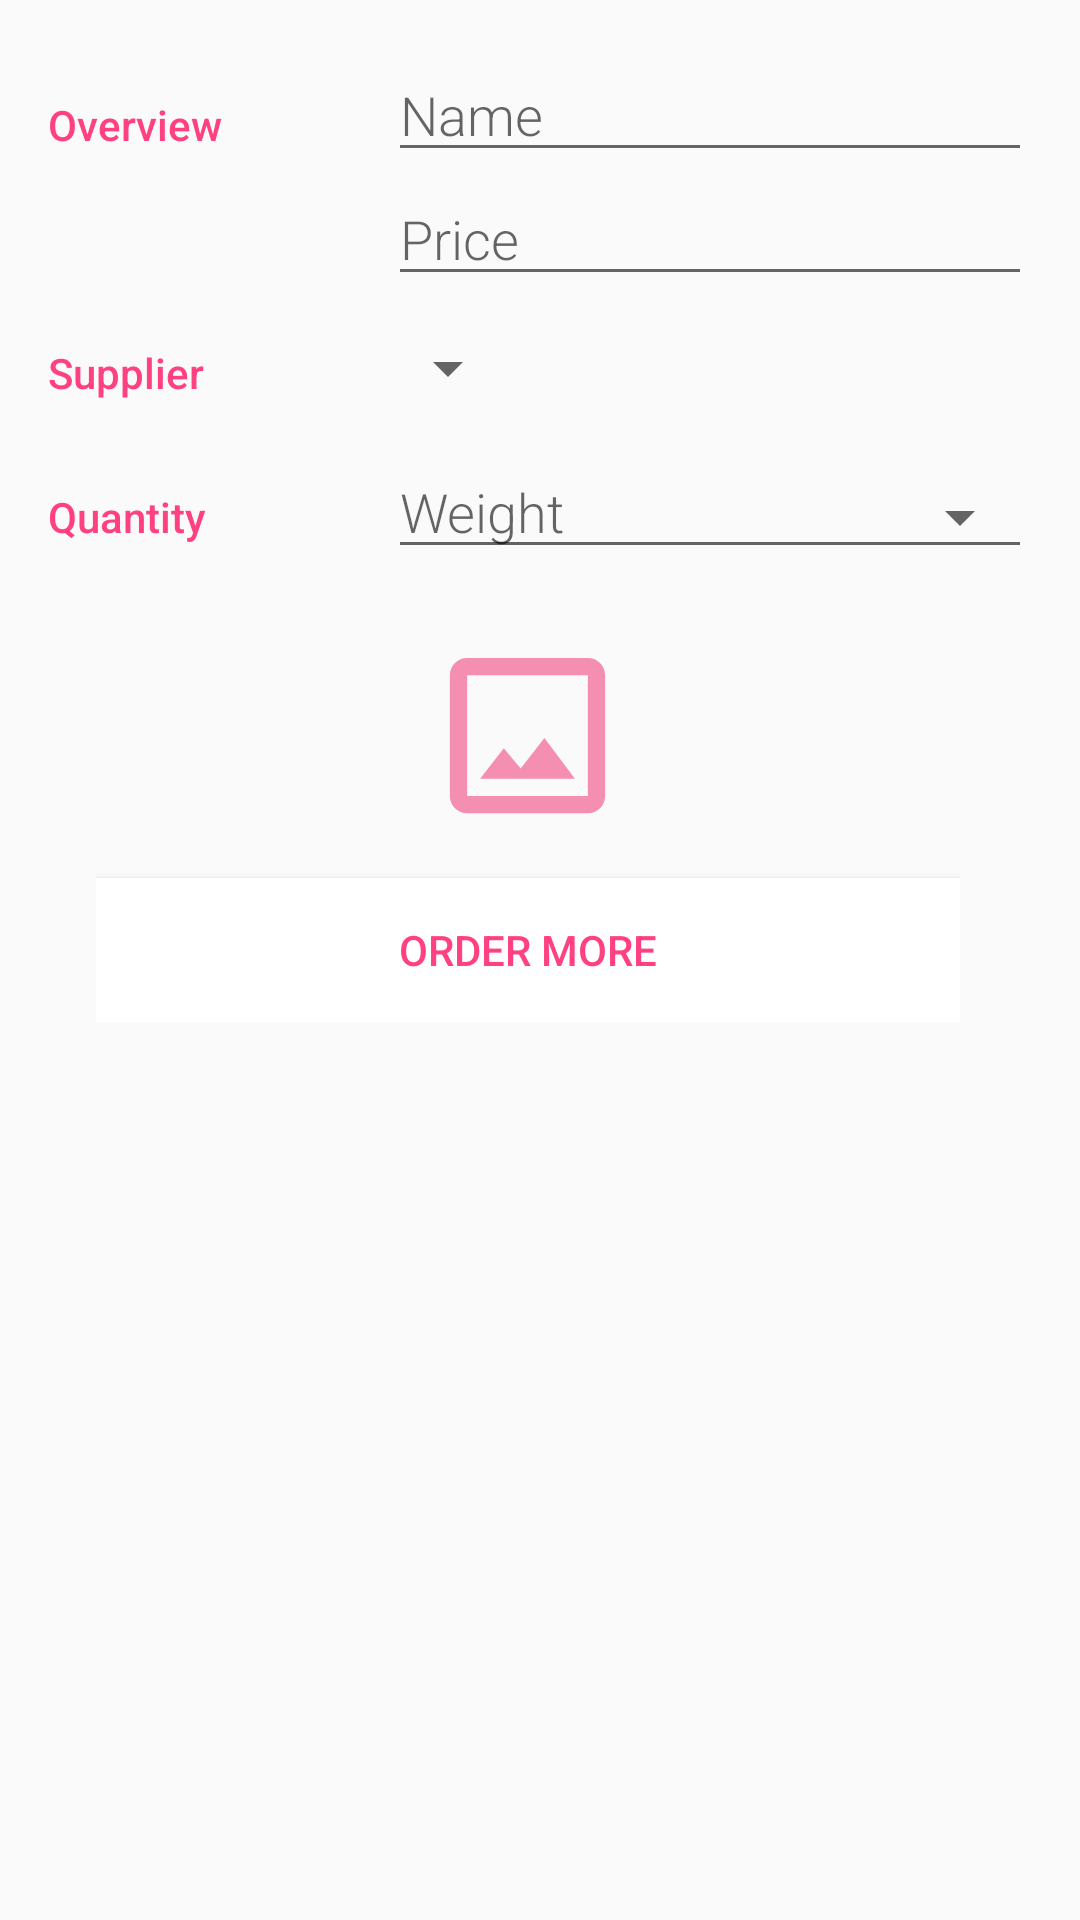

Icons on this 1080×1920 Android screen, each with the point to tap as (x=x, y=y):
crop original: (x=527, y=736)
